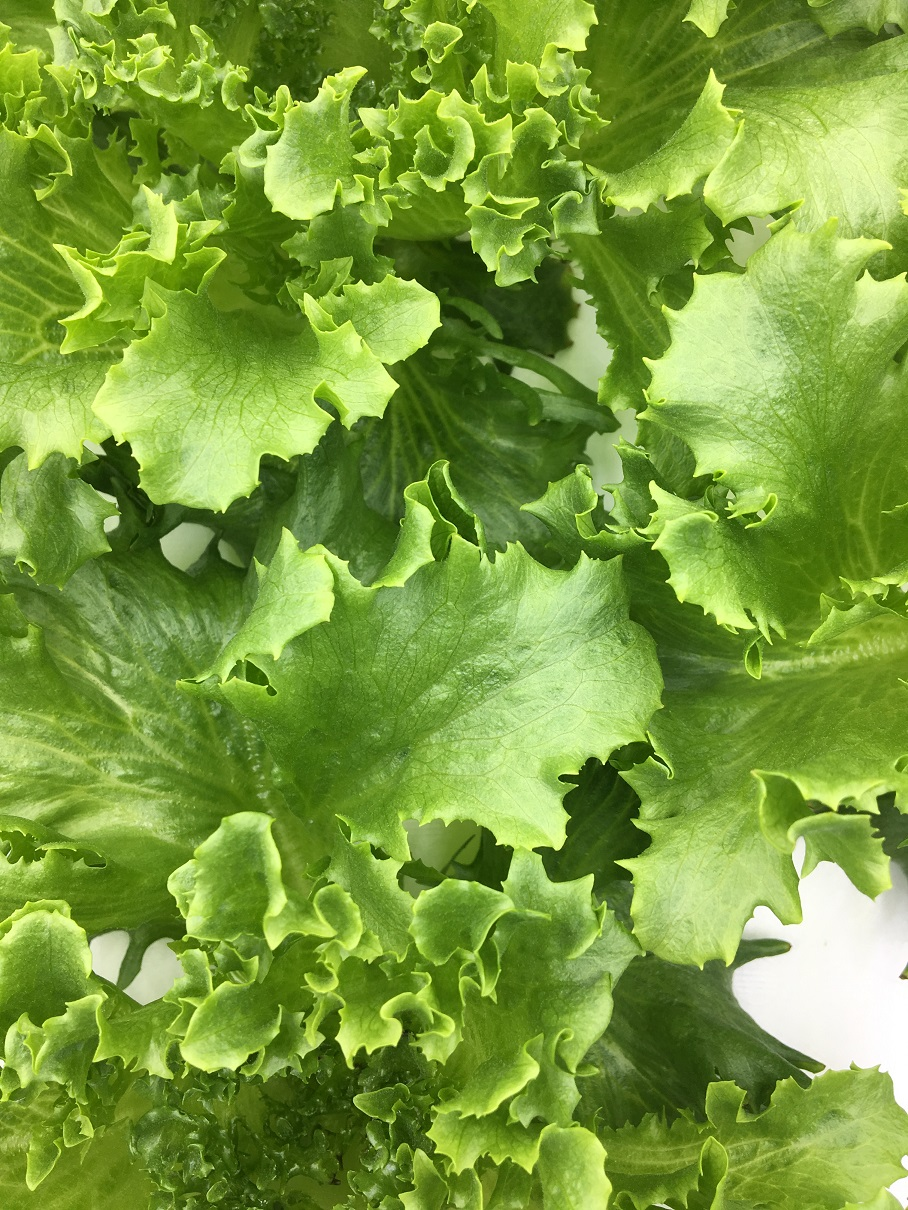tipburn: (542, 344, 560, 367), (570, 297, 584, 315)
